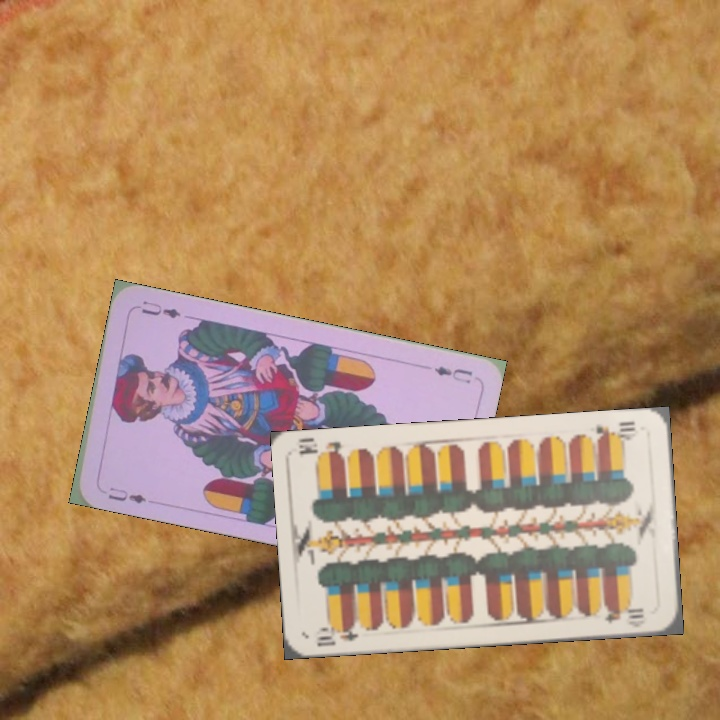E10: (313, 619, 361, 649), (592, 417, 641, 445)
EU: (430, 361, 475, 387), (104, 482, 149, 507)
